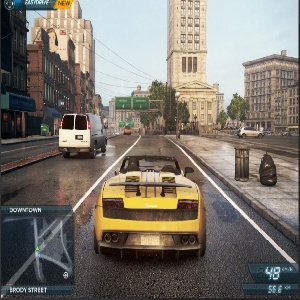building: (168, 1, 225, 133), (29, 13, 96, 116), (243, 57, 300, 128)
garbage: (259, 152, 277, 187), (233, 147, 251, 181)
road sign: (115, 96, 150, 110)
tree: (145, 81, 186, 132), (227, 93, 248, 132)
vehicle: (56, 110, 112, 158), (238, 126, 264, 138), (122, 124, 132, 135)
